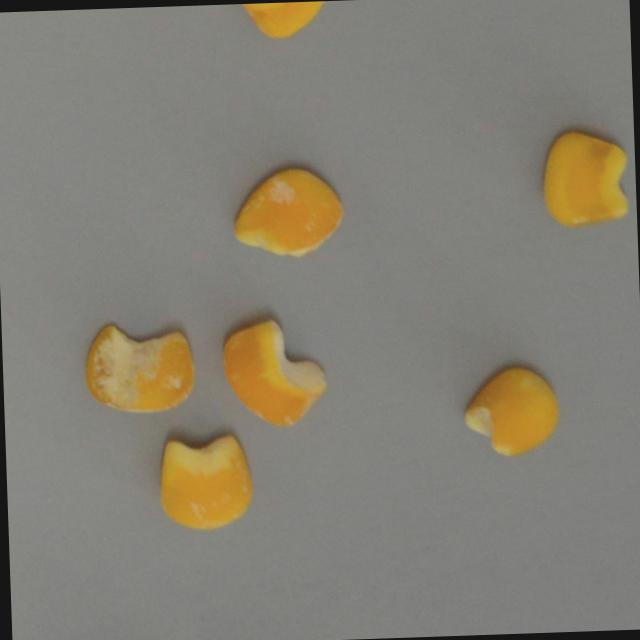dañado: (456, 358, 562, 461), (536, 122, 634, 233), (230, 0, 336, 42)
pelicula: (215, 310, 328, 433), (226, 159, 346, 265), (150, 429, 256, 534)
punto_negro: (79, 315, 196, 417)
